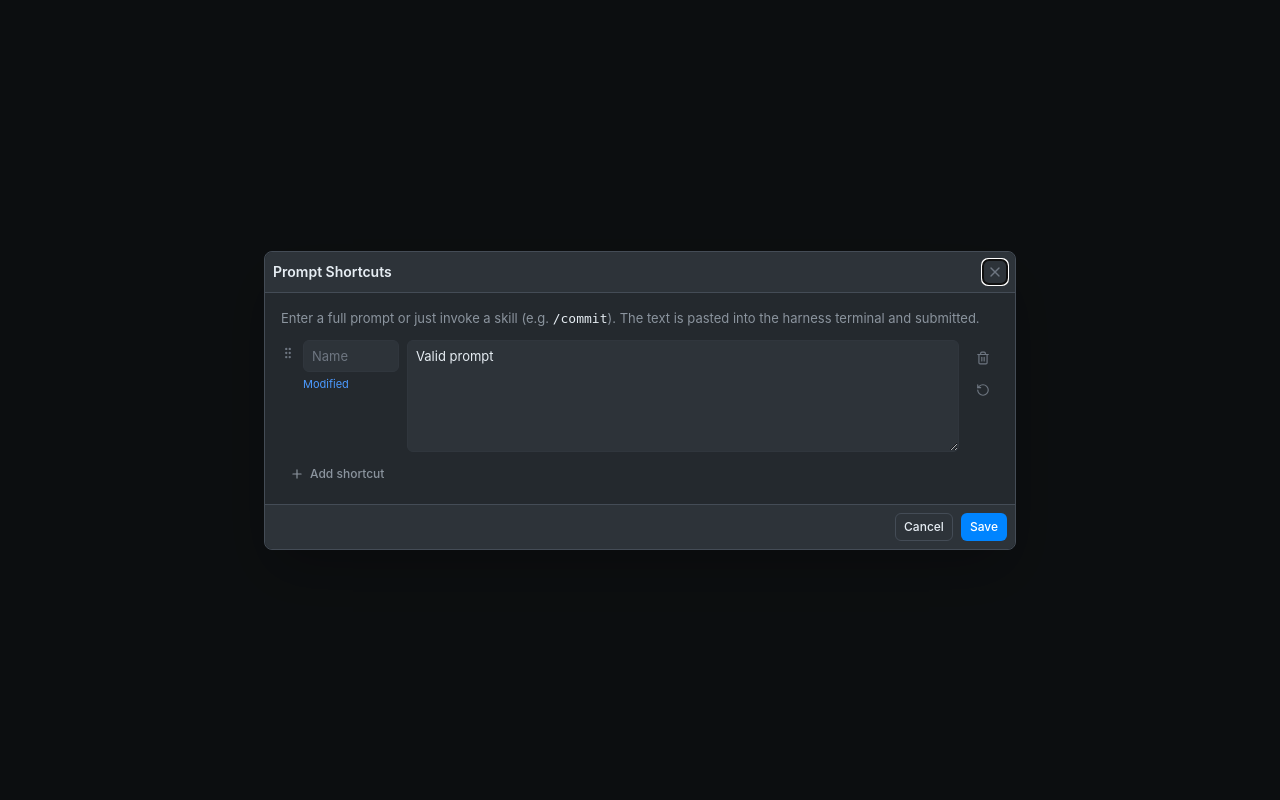
Scenario: PromptShortcutEditorDialog › disables save when label is empty
Expected: the button "Save" is enabled, [961,512,1007,540]
Clear the field with placeholder "Name". click: {"x": 351, "y": 356}
box: [303,340,399,372]
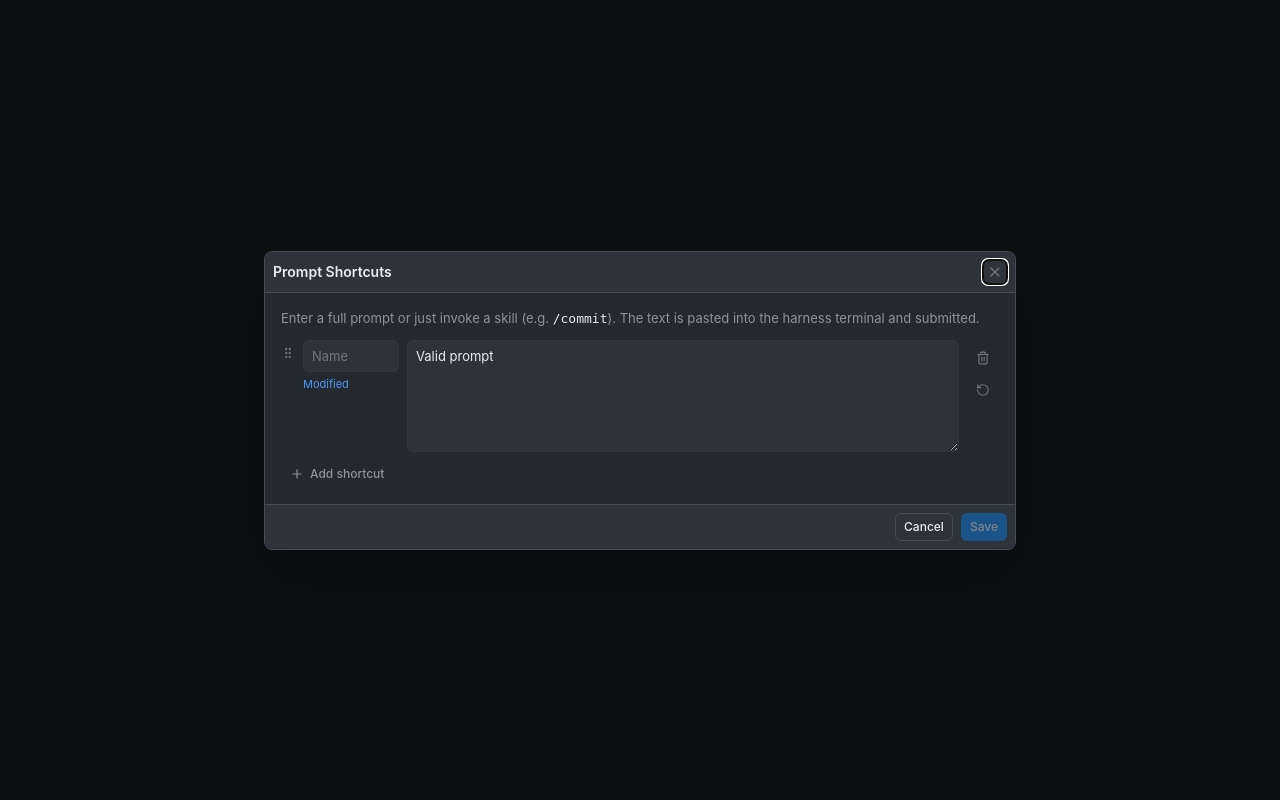
Expected: the button "Save" is disabled, [961,512,1007,540]
